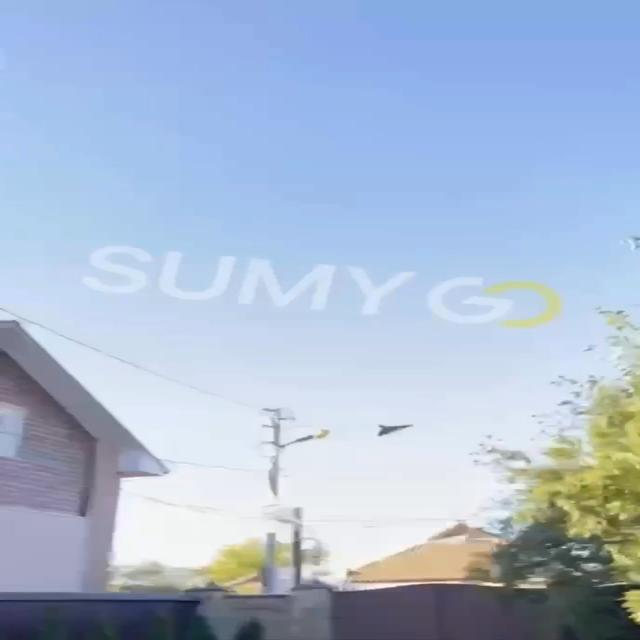drone: (363, 412, 426, 448)
